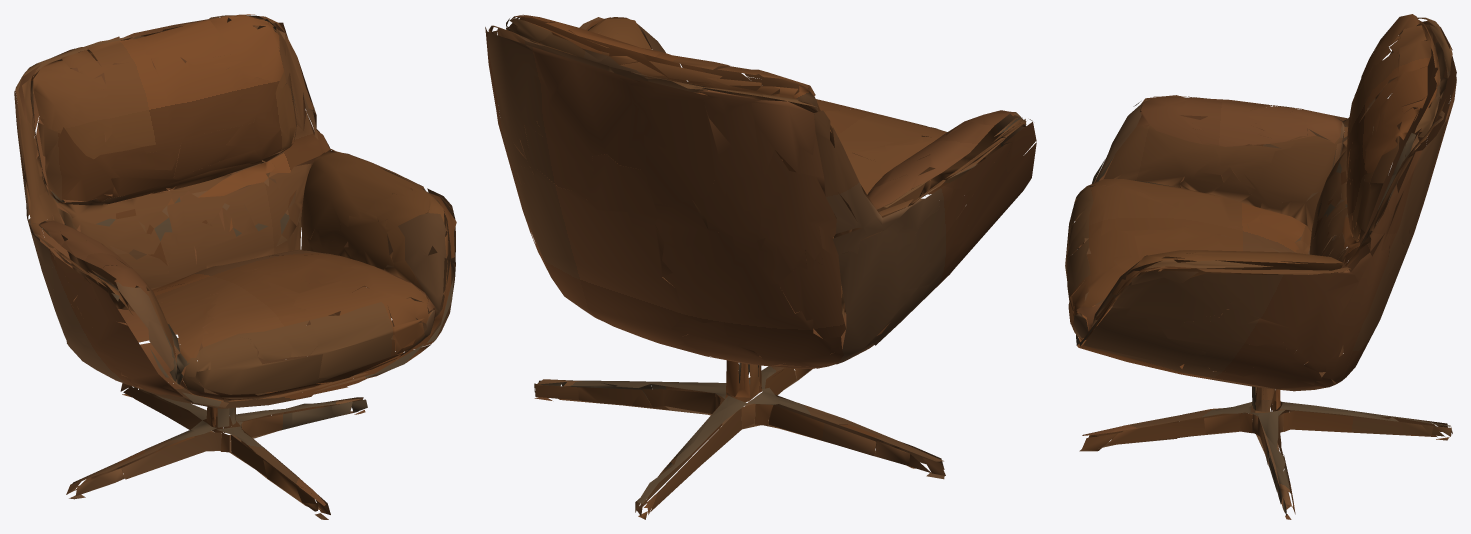
The model's file is lounge_chair.glb.
3 renders of one model, left to right at view 1: azimuth 30°, elevation 25°; view 2: azimuth 150°, elevation 25°; view 3: azimuth 270°, elevation 25°, orthographic. The views are drawn at different scales.
Parts seen in each view (by area): view 1: LO.001; view 2: LO.001; view 3: LO.001.
Boxes of the visible parts, <box> form: LO.001: <box>14,14,456,519</box>; LO.001: <box>485,14,1036,519</box>; LO.001: <box>1065,14,1456,519</box>.
Size of the model in its own units: 0.8513 by 0.85 by 0.8018.
1 material, 1 textured.
